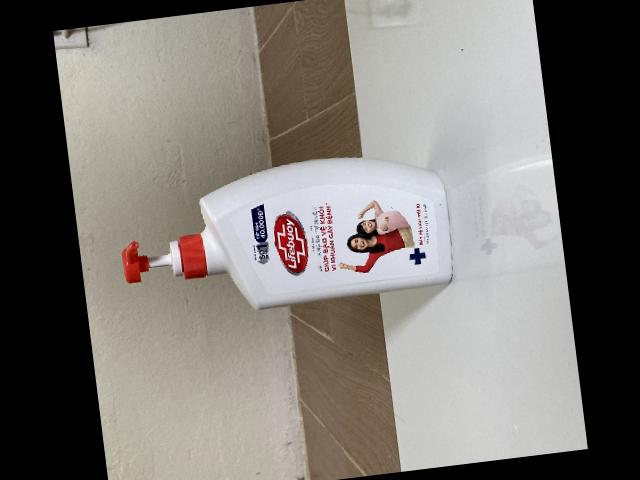life-buoy: (122, 156, 455, 309)
